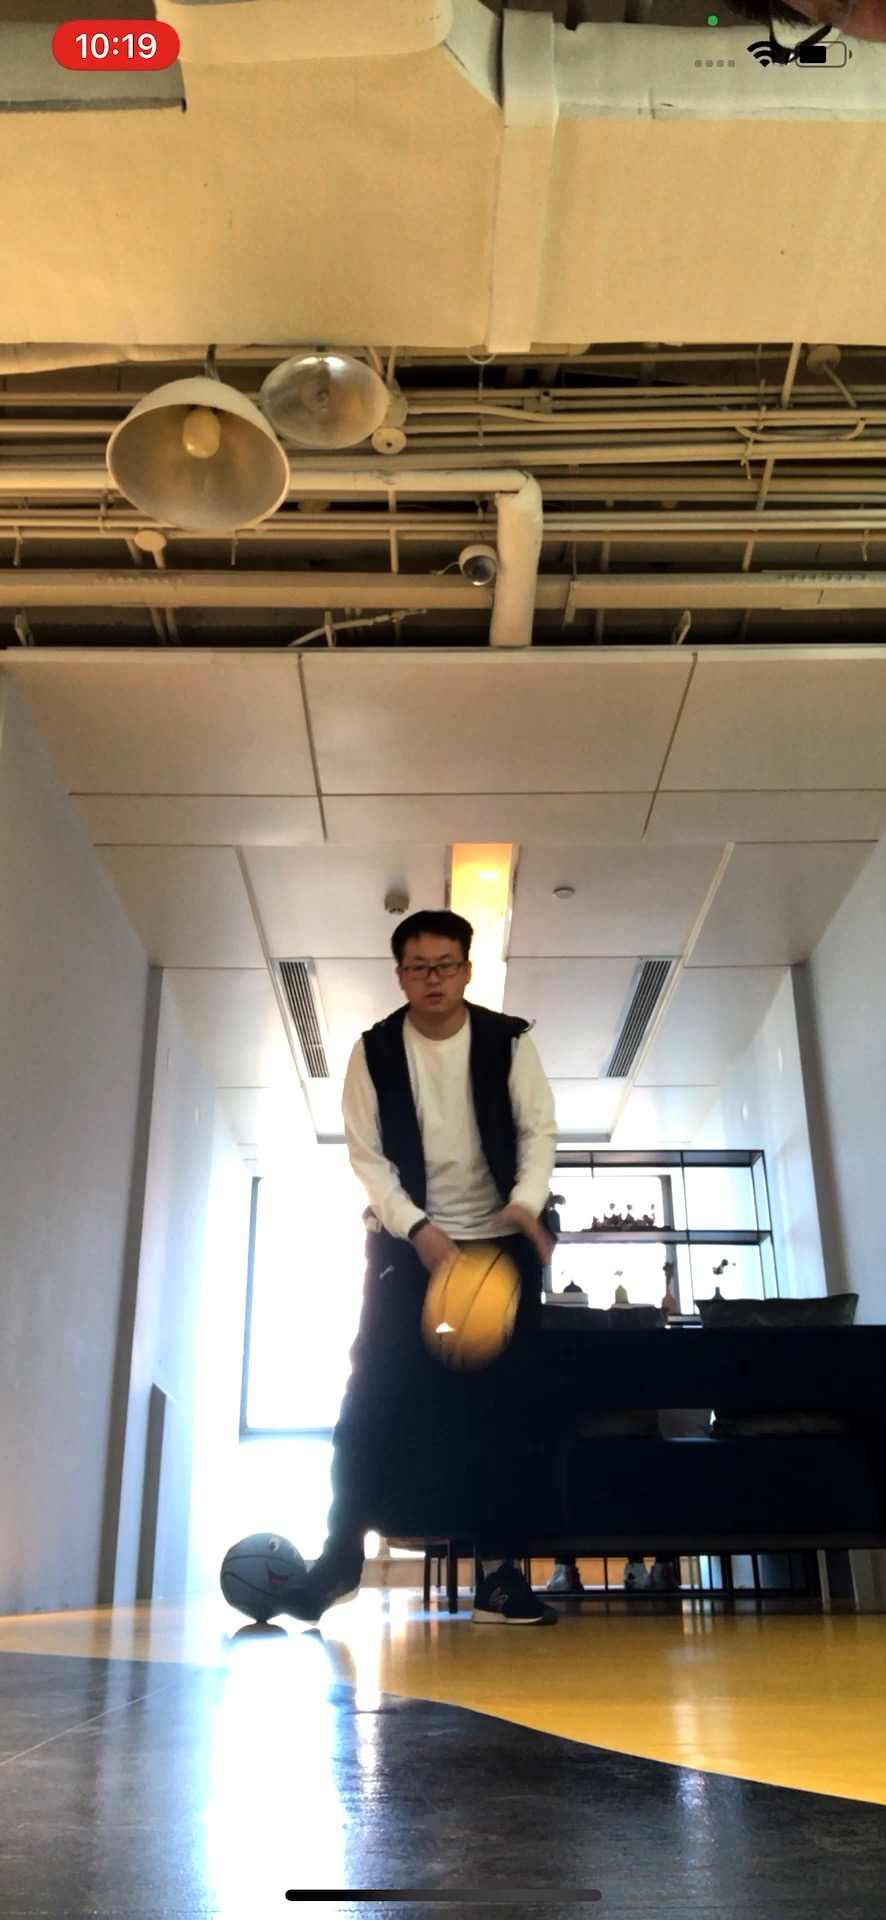ball: (419, 1249, 525, 1365), (221, 1536, 306, 1619)
